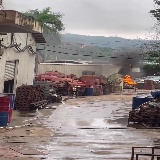fire: (122, 75, 137, 84)
